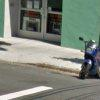Motorcycle: (75, 31, 100, 92)
